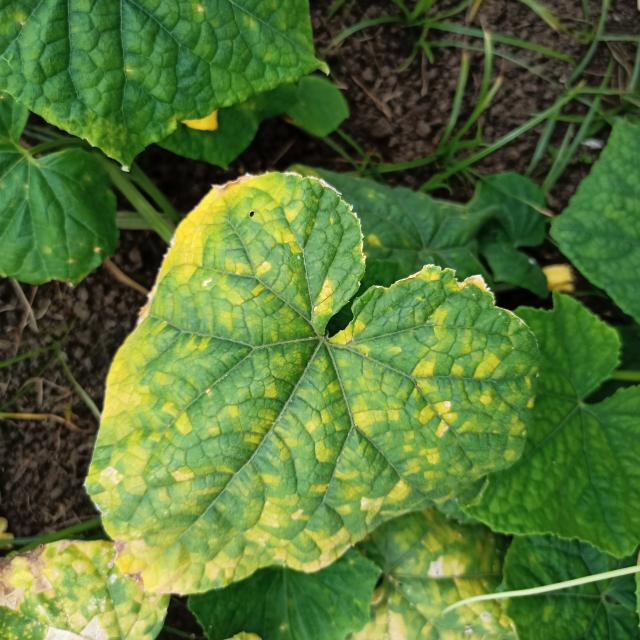disease_cucumber: (81, 170, 526, 590)
